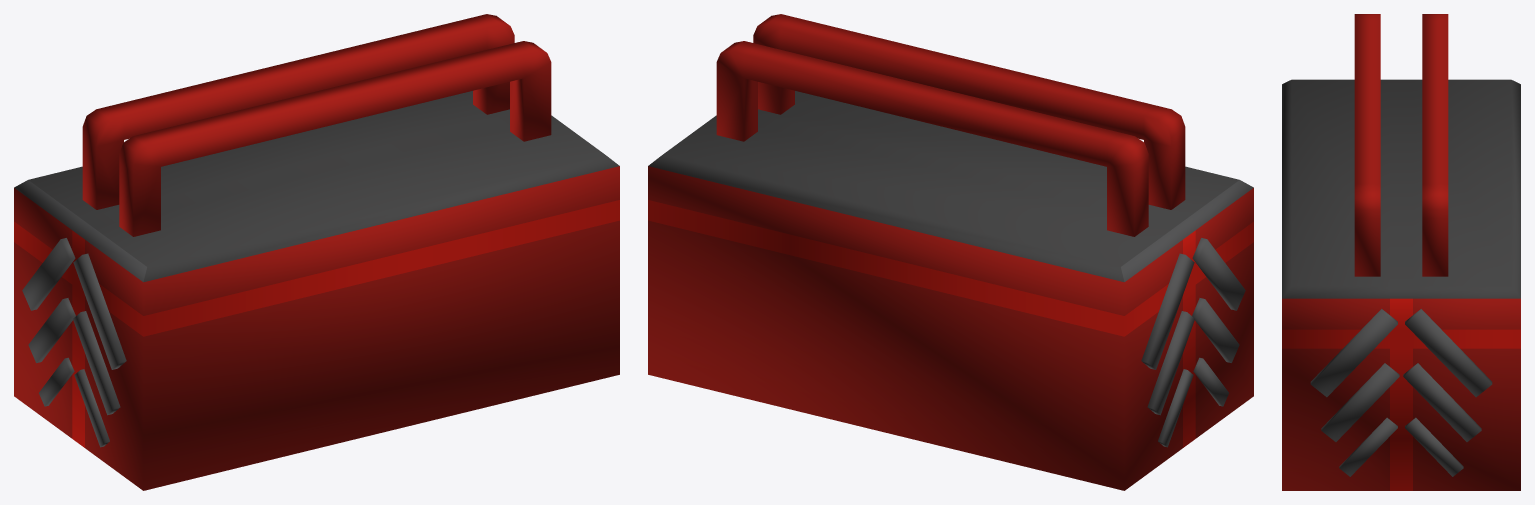
Rendered from CaixaFerramentas.fbx.
3 renders of one model, left to right at view 1: azimuth 30°, elevation 25°; view 2: azimuth 150°, elevation 25°; view 3: azimuth 270°, elevation 25°, orthographic. The views are drawn at different scales.
Visible parts, largest first — view 1: CaixaFerramentas; view 2: CaixaFerramentas; view 3: CaixaFerramentas.
Boxes of the visible parts, x1,y1,x2,y2 form: CaixaFerramentas: [14, 14, 619, 490]; CaixaFerramentas: [648, 14, 1253, 490]; CaixaFerramentas: [1282, 14, 1520, 490].
Size of the model in its own units: 54.32 by 32.26 by 24.79.
